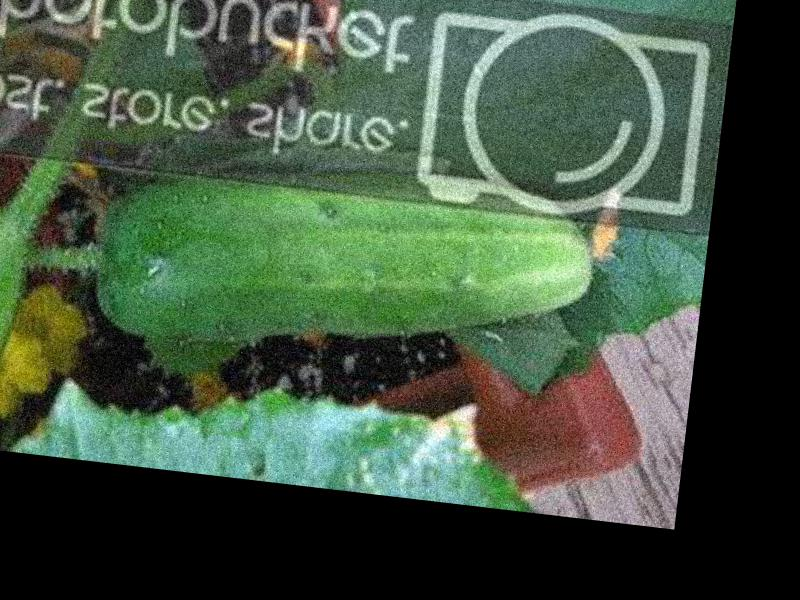Cucumber: (93, 136, 605, 389)
